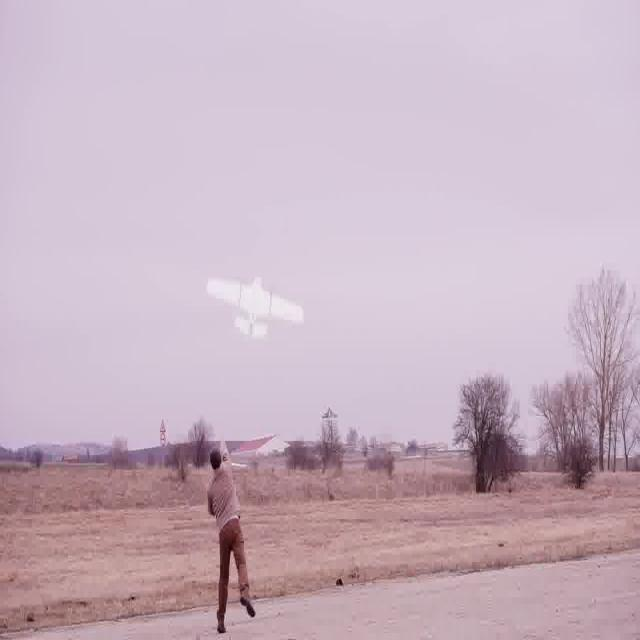iha: (225, 239, 285, 383)
